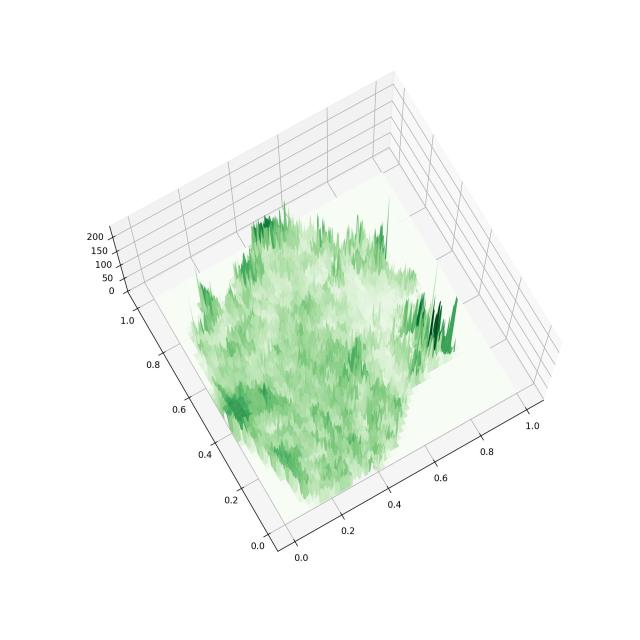pine: (61, 48, 622, 588)
